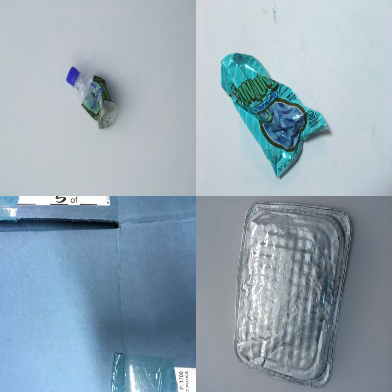cardboard: (1, 196, 196, 392)
metal: (232, 202, 353, 386)
plastic: (220, 52, 332, 177), (65, 65, 119, 129)
